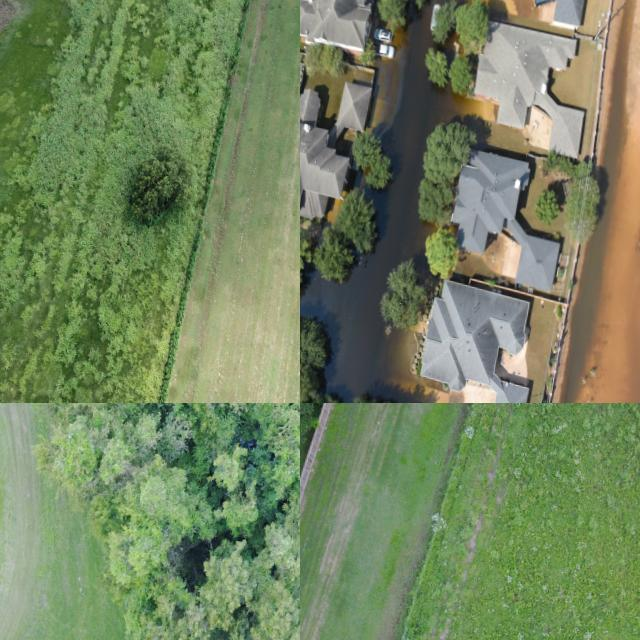fire: (300, 5, 484, 403), (554, 0, 640, 403)
